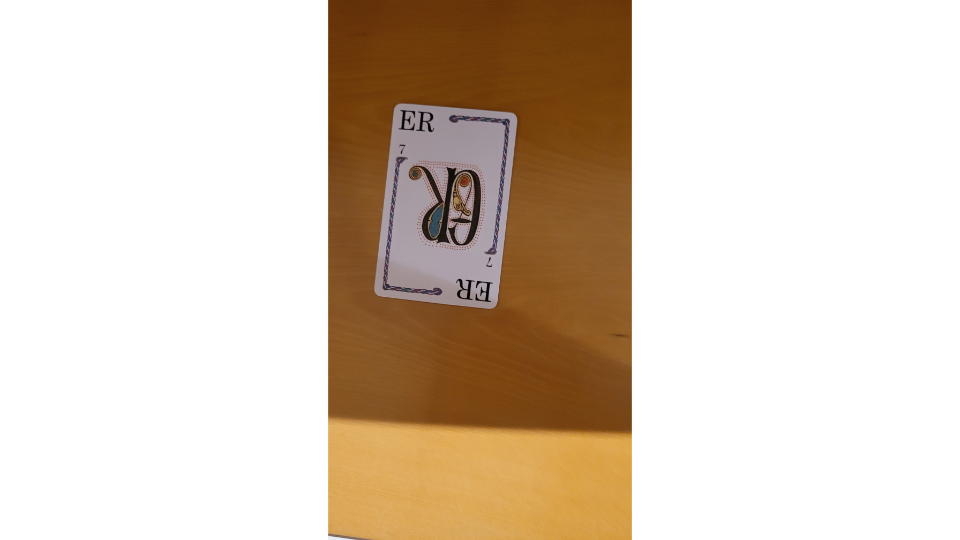ER: (372, 102, 518, 313)
